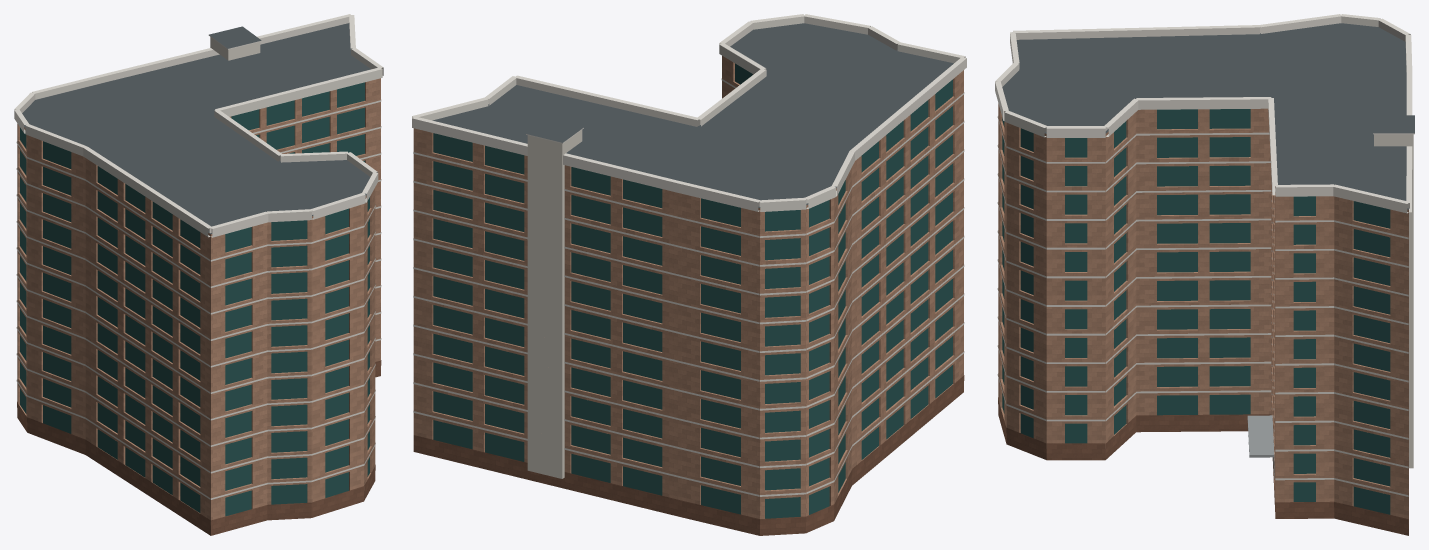
3 renders of one model, left to right at view 1: azimuth 30°, elevation 25°; view 2: azimuth 150°, elevation 25°; view 3: azimuth 270°, elevation 25°, orthographic. The views are drawn at different scales.
Parts seen in each view (by area): view 1: chungMoonSoul__wall, chungMoonSoul__glass, chungMoonSoul__roof, chungMoonSoul__trim, chungMoonSoul__base, chungMoonSoul__wall2; view 2: chungMoonSoul__wall, chungMoonSoul__glass, chungMoonSoul__roof, chungMoonSoul__trim, chungMoonSoul__wall2, chungMoonSoul__base; view 3: chungMoonSoul__wall, chungMoonSoul__glass, chungMoonSoul__roof, chungMoonSoul__trim, chungMoonSoul__base, chungMoonSoul__wall2, chungMoonSoul__canopy.
Part boxes in pixels (x1,y1,x2,y2): chungMoonSoul__wall: [17, 78, 380, 525]; chungMoonSoul__glass: [20, 82, 369, 516]; chungMoonSoul__roof: [22, 23, 370, 233]; chungMoonSoul__trim: [14, 14, 383, 499]; chungMoonSoul__base: [17, 360, 381, 535]; chungMoonSoul__wall2: [210, 37, 260, 60]; chungMoonSoul__wall: [413, 56, 963, 518]; chungMoonSoul__glass: [433, 63, 952, 518]; chungMoonSoul__roof: [432, 23, 953, 207]; chungMoonSoul__trim: [412, 14, 966, 496]; chungMoonSoul__wall2: [527, 130, 582, 478]; chungMoonSoul__base: [413, 375, 964, 535]; chungMoonSoul__wall: [998, 103, 1408, 524]; chungMoonSoul__glass: [1002, 109, 1390, 514]; chungMoonSoul__roof: [1002, 23, 1414, 478]; chungMoonSoul__trim: [995, 14, 1414, 496]; chungMoonSoul__base: [998, 397, 1408, 535]; chungMoonSoul__wall2: [1374, 134, 1413, 468]; chungMoonSoul__canopy: [1247, 415, 1274, 457].
Size of the model in its own units: 54.09 by 46 by 50.49.
9 materials, 2 textured.
